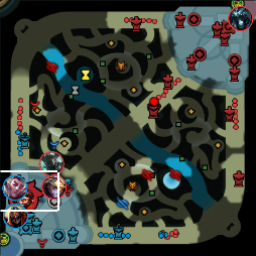ezreal: (41, 176, 63, 200)
karthus: (227, 6, 251, 31)
monkeyking: (11, 185, 34, 209)
mordekaiser: (39, 149, 63, 176)
rakan: (1, 173, 27, 200)
zed: (3, 203, 27, 228)
